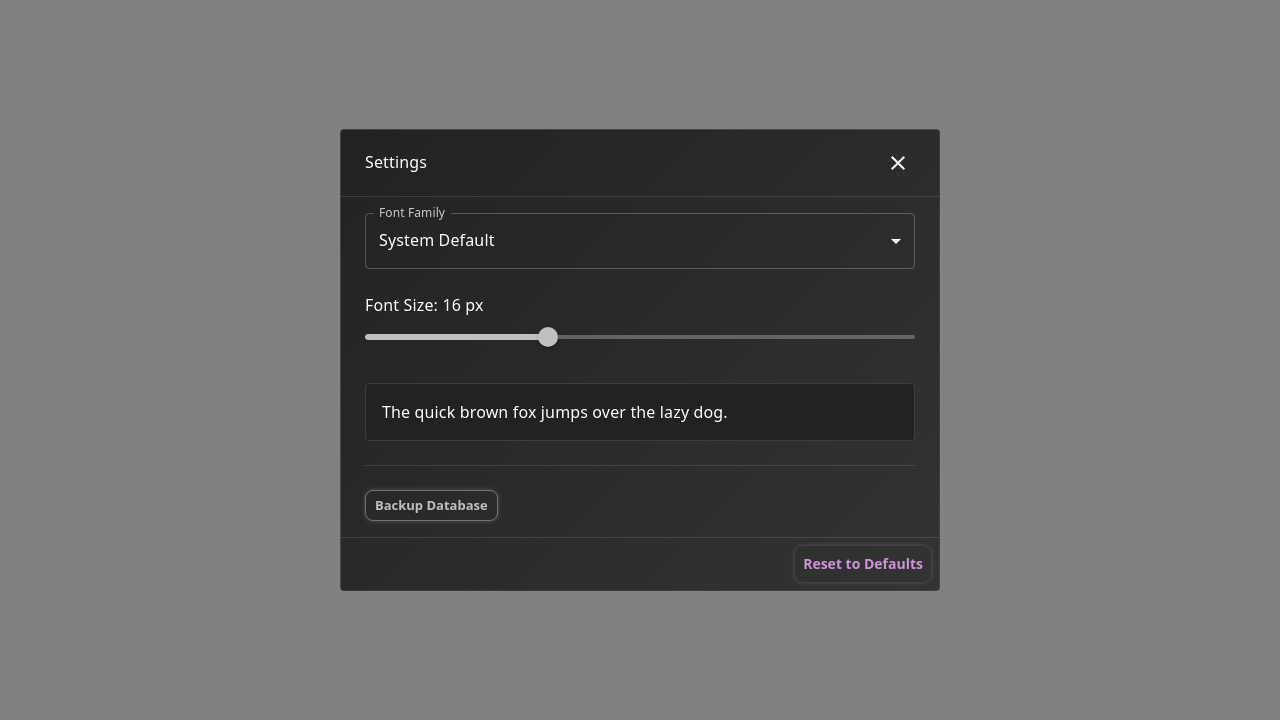
it: SettingsDialog › font family dropdown › has System Default option
The image size is (1280, 720).
Note: Open the select dropdown
Click the dropdown named "font family".
click(437, 240)  # box top-left (379, 229), bottom-right (495, 251)
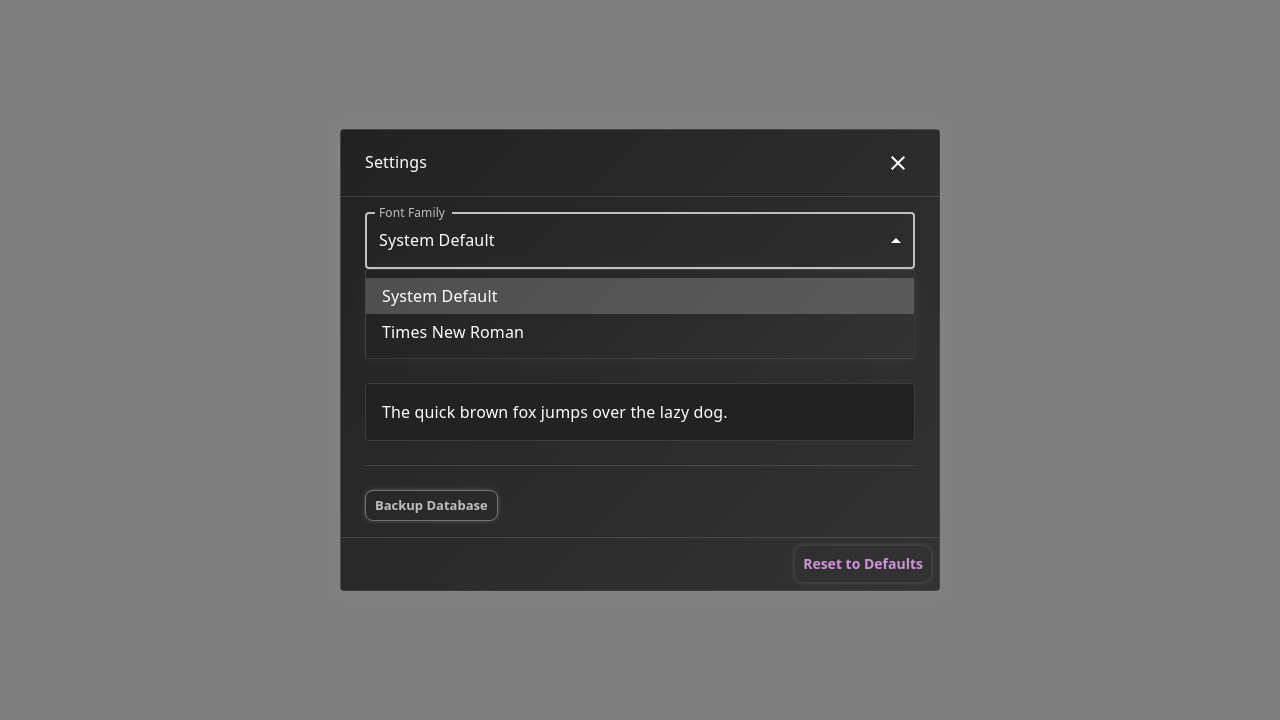
Expected: the option "System Default" is shown, top-left (366, 278), bottom-right (914, 314)
